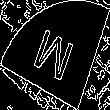M_SW: (30, 22, 80, 88)
